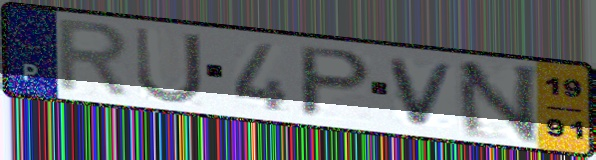4: (229, 40, 291, 113)
N: (453, 60, 544, 145)
P: (296, 43, 376, 120)
R: (54, 16, 135, 103)
U: (131, 23, 207, 106)
V: (385, 56, 461, 129)
